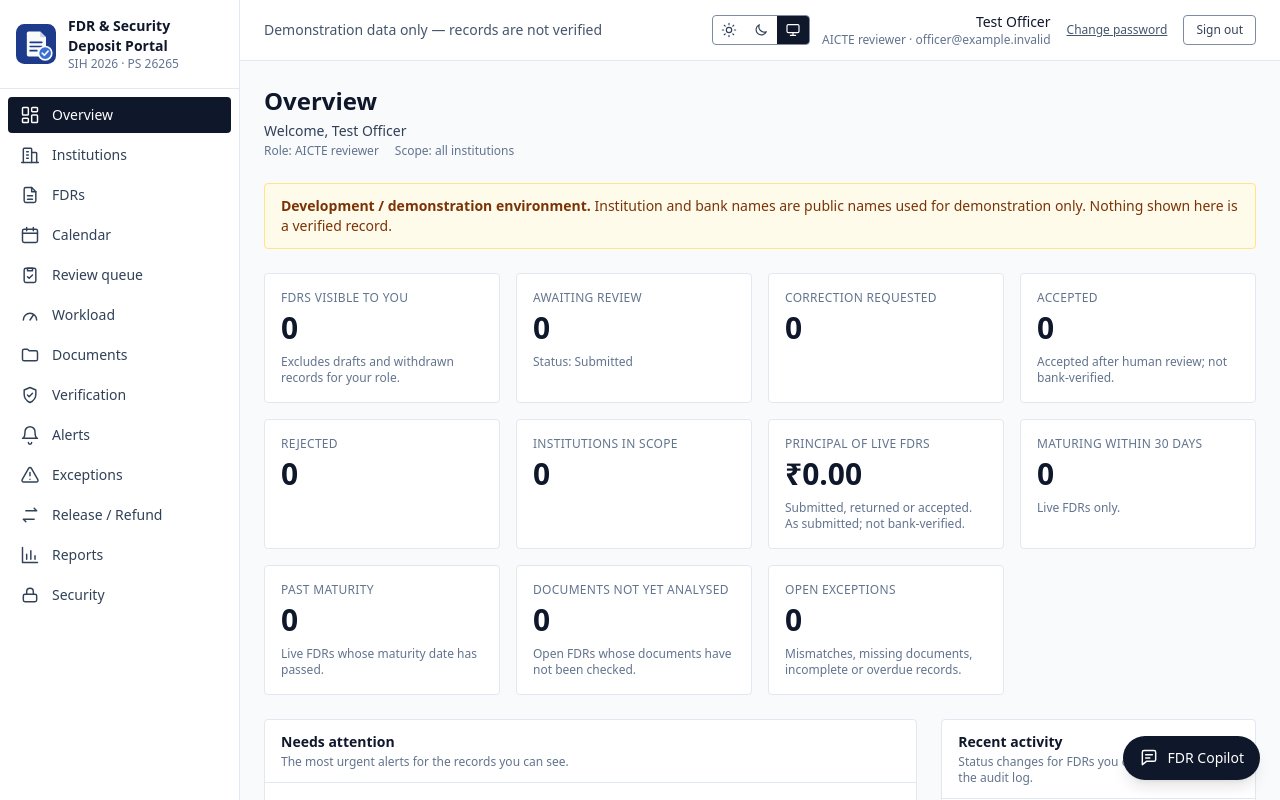
Scenario: FDR Copilot answer feedback › sends 'helpful' with only facts about the answer, never its text or the question
Expected: the navigation bar named "Main" is shown, [0,89,239,621]
Step 1. Click the button with aria-label "Open FDR Copilot" → (1192, 758), box [1124,736,1260,780]
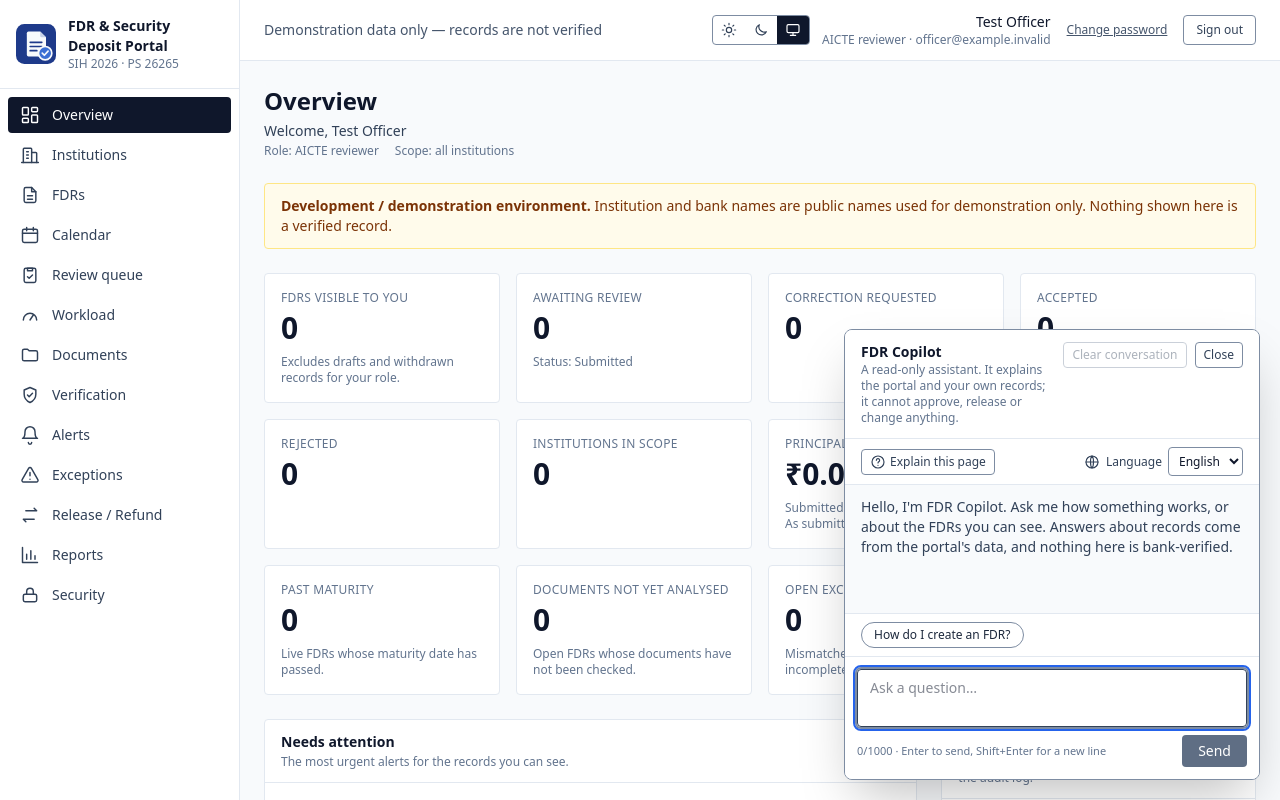
Step 2. Type "hello" into the text box named "Your question" → (1052, 698), box [857,669,1247,727]
Then press Enter
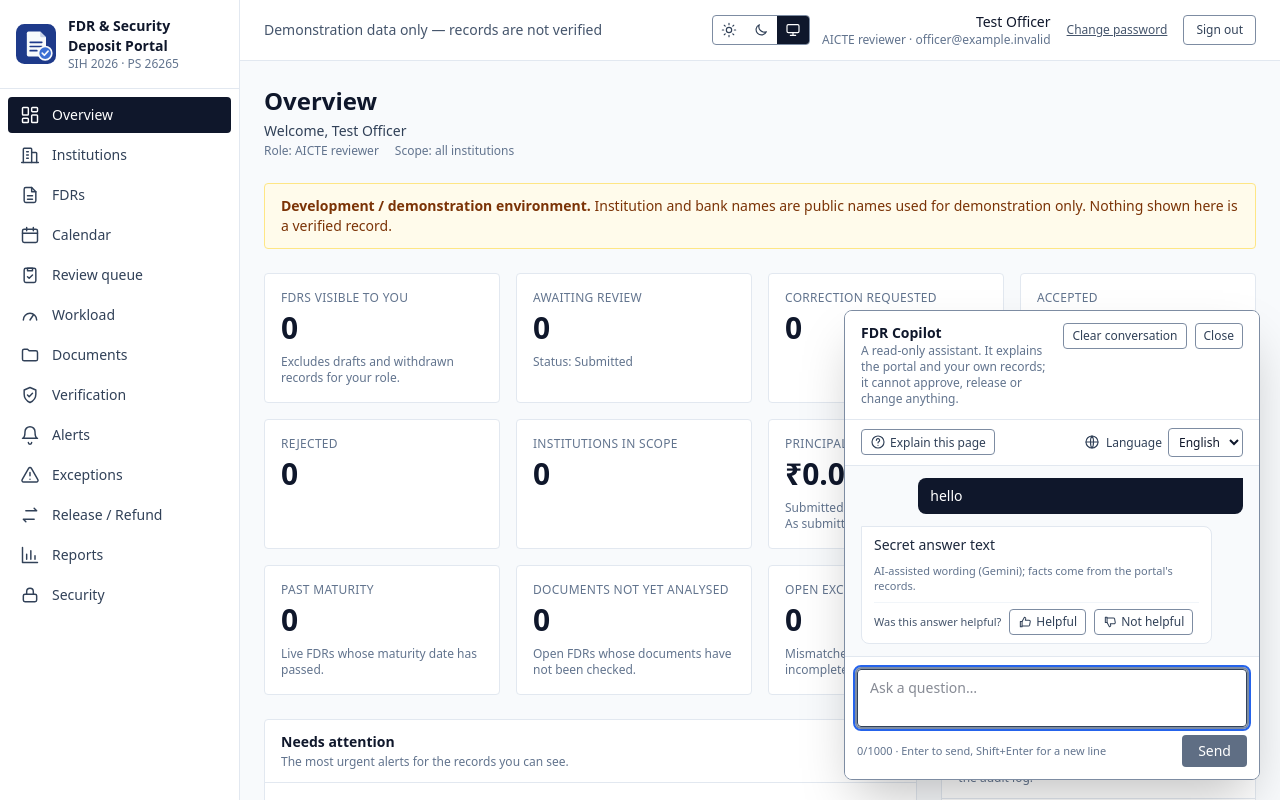
Now the text "Secret answer text" is shown, box [874,535,995,554]
Step 3. Click the button "Helpful" → (1048, 622), box [1009,609,1086,635]
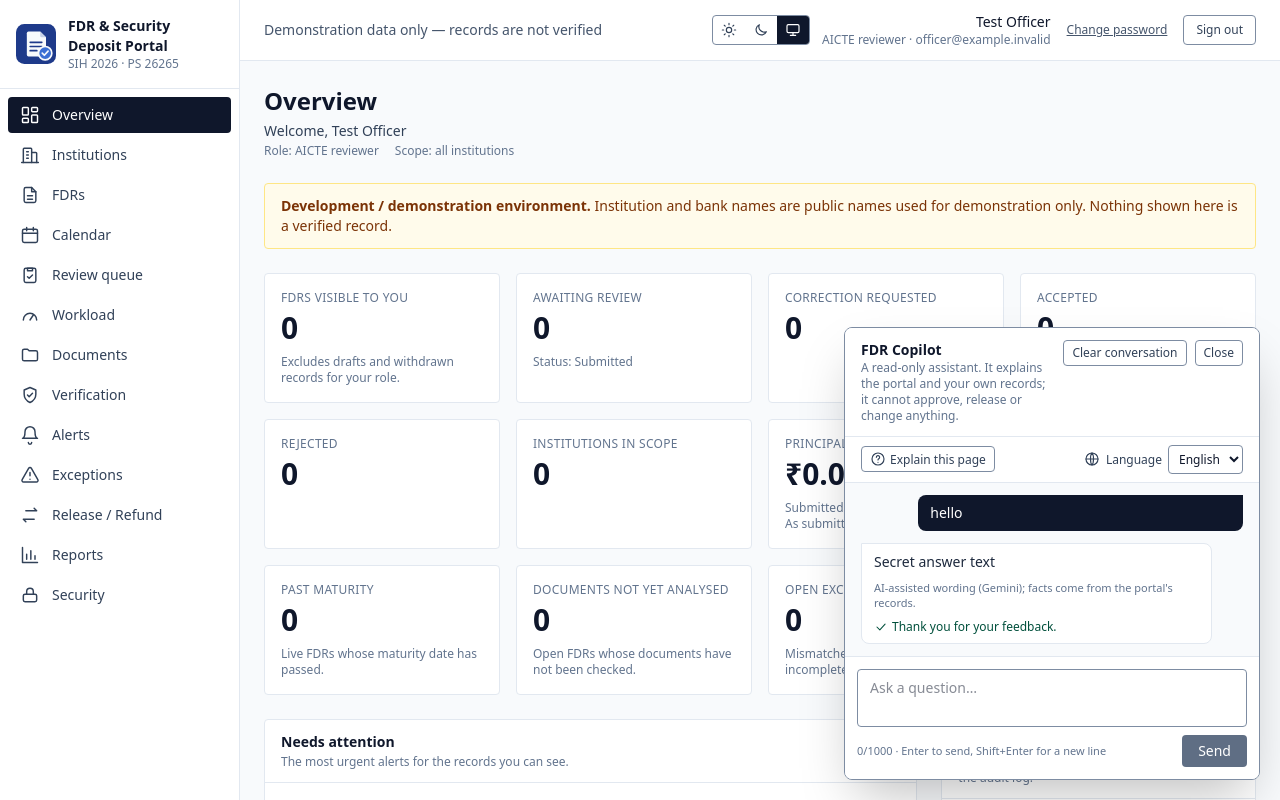
Now the text "Thank you for your feedback." is shown, box [874,618,1057,635]
